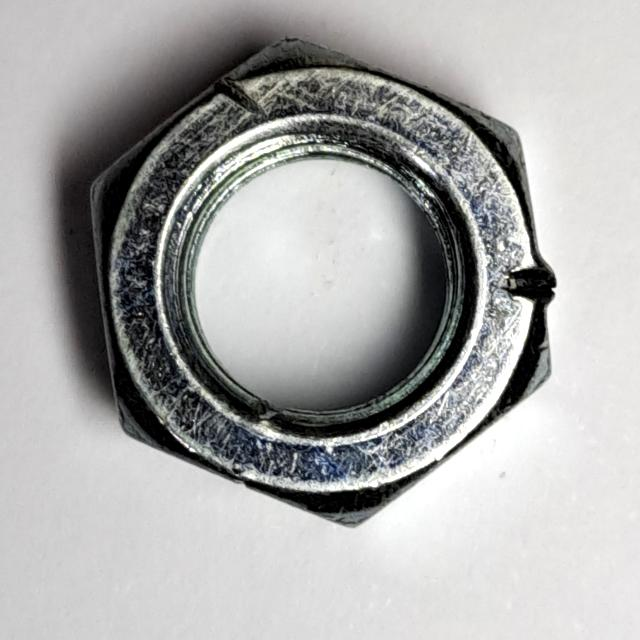Scratches: (70, 23, 580, 540)
